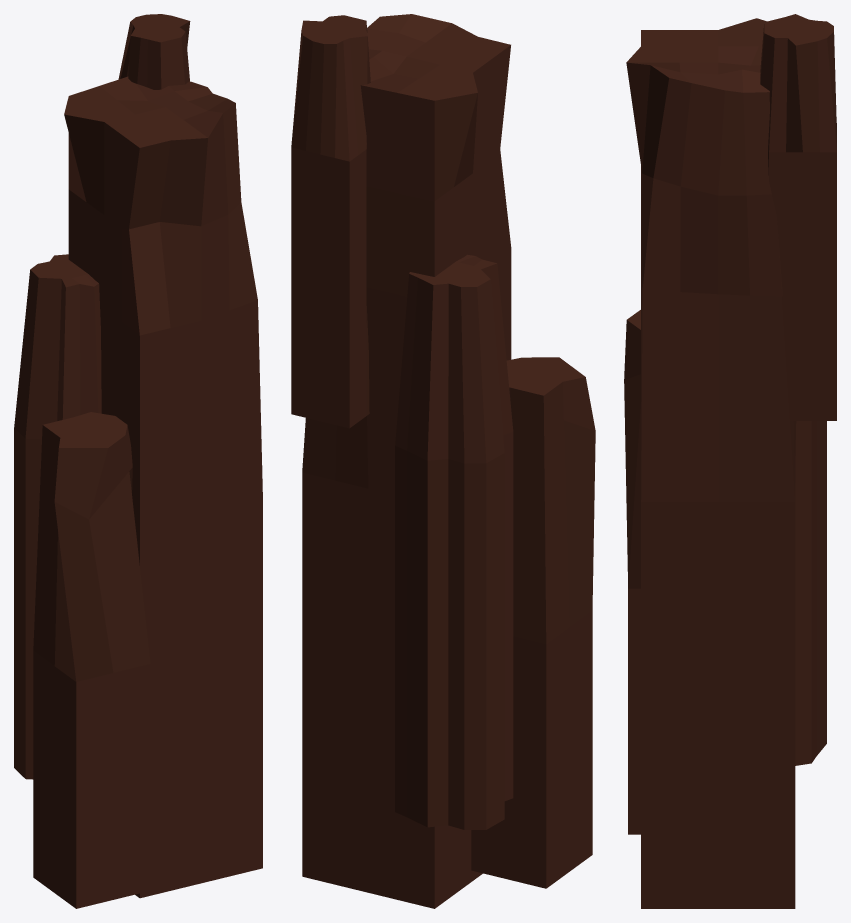
Rendered from sc_FeiTu_mesh_shan12.FBX.
The picture shows the model from 3 angles, left to right: view 1: azimuth 30°, elevation 25°; view 2: azimuth 150°, elevation 25°; view 3: azimuth 270°, elevation 25°; orthographic projection. The views are drawn at different scales.
Visible parts, largest first — view 1: mesh_shan12; view 2: mesh_shan12; view 3: mesh_shan12.
Part boxes in pixels (x1=…): mesh_shan12: x1=14, y1=14, x2=262, y2=908; mesh_shan12: x1=291, y1=14, x2=595, y2=908; mesh_shan12: x1=624, y1=14, x2=836, y2=908.
Size of the model in its own units: 343 by 1274 by 285.
